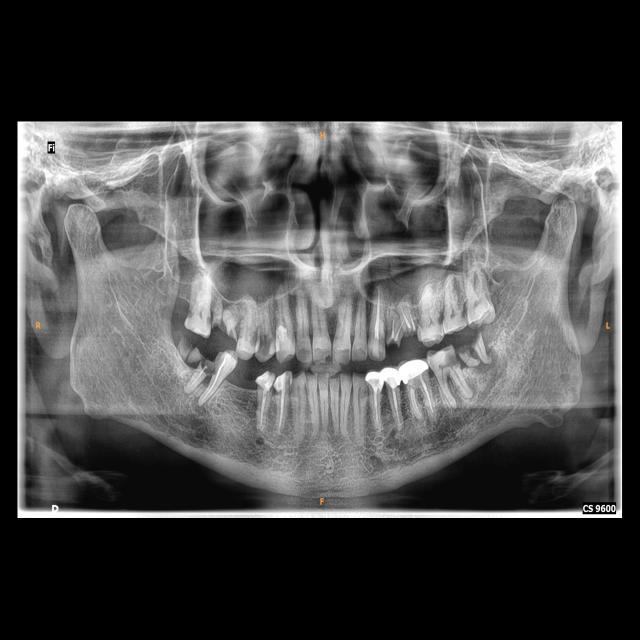dentin-curugu: (201, 346, 226, 376), (257, 328, 273, 358), (445, 352, 460, 371), (249, 330, 258, 348), (186, 307, 197, 321), (324, 352, 332, 364), (206, 316, 211, 325)
dolgu: (275, 370, 289, 393), (257, 372, 275, 388)
kanal-tedavisi: (408, 380, 435, 416), (190, 371, 217, 402), (371, 289, 384, 337), (388, 389, 404, 423), (254, 390, 270, 421), (274, 391, 284, 432), (372, 387, 382, 425), (402, 306, 417, 330), (389, 320, 401, 338)
kaplama: (399, 359, 430, 381), (381, 366, 401, 387), (366, 370, 384, 392)
kirik: (212, 316, 238, 342), (458, 333, 483, 358), (383, 334, 402, 351), (399, 325, 419, 339)
